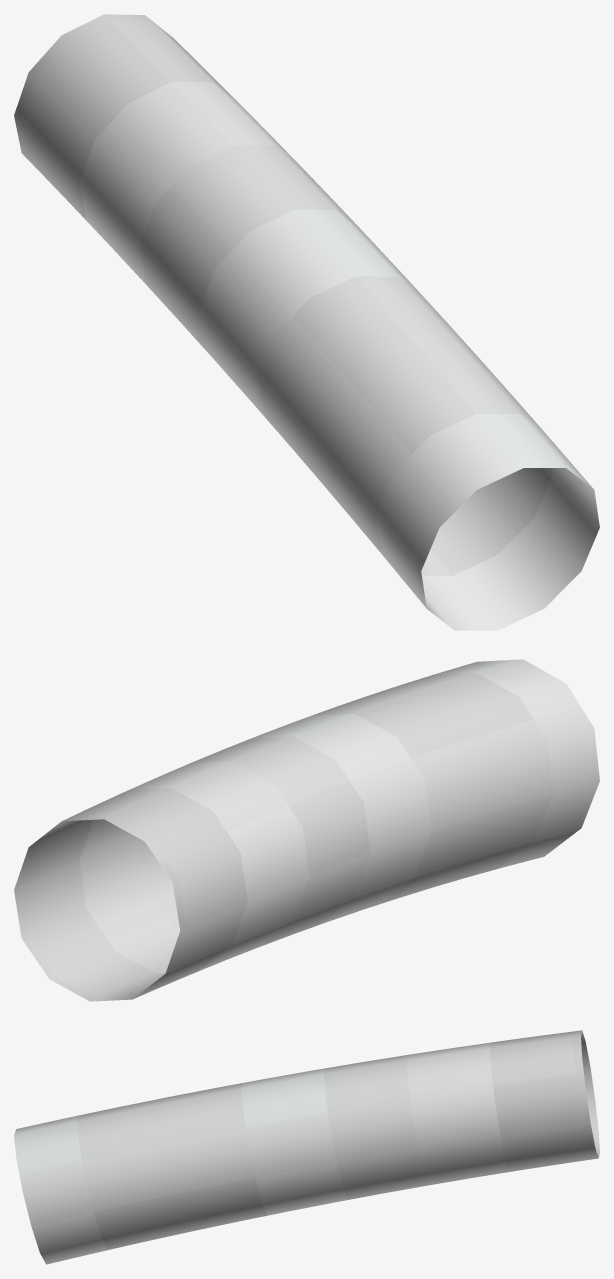
Rendered from luminairearm_caltrans12ftdouble_c4.obj.
3 renders of one model, top to bottom at view 1: azimuth 30°, elevation 25°; view 2: azimuth 150°, elevation 25°; view 3: azimuth 270°, elevation 25°, orthographic. The views are drawn at different scales.
Visible parts, largest first — view 1: luminairearm_caltrans12ftdouble_c4; view 2: luminairearm_caltrans12ftdouble_c4; view 3: luminairearm_caltrans12ftdouble_c4.
Part boxes in pixels (left/top/right/bottom): luminairearm_caltrans12ftdouble_c4: left=14, top=14, right=599, bottom=630; luminairearm_caltrans12ftdouble_c4: left=14, top=659, right=599, bottom=1001; luminairearm_caltrans12ftdouble_c4: left=14, top=1030, right=599, bottom=1264.
Bounding box in the file's own units: 0.21 × 0.3684 × 0.8817.
